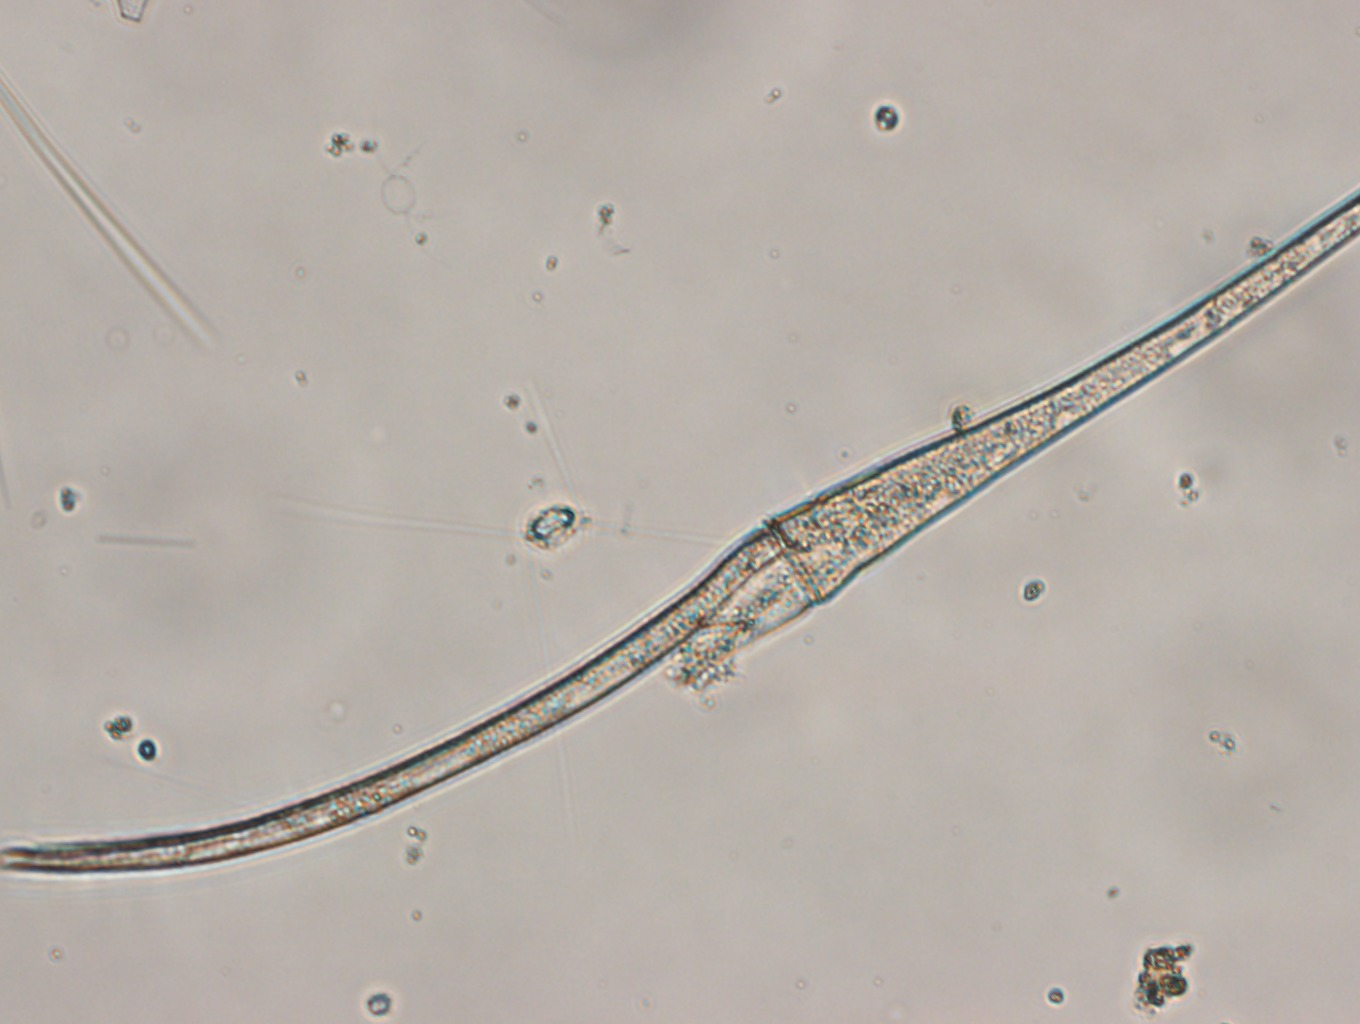ceratium fusus: (2, 177, 1356, 884)
